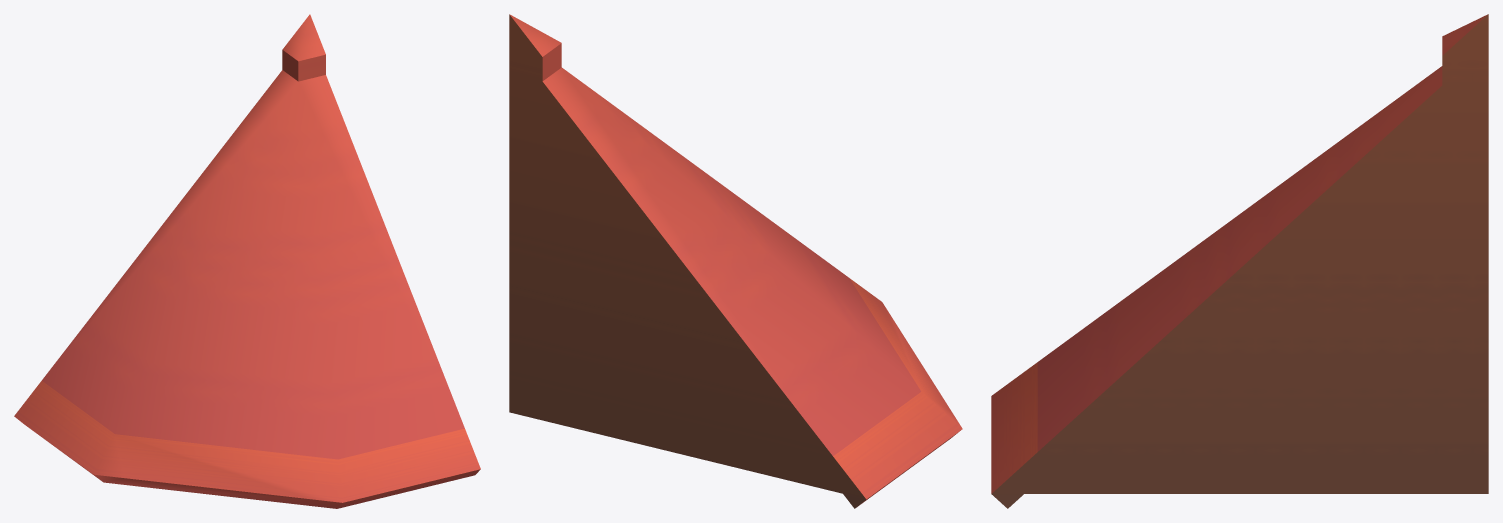
The model's file is roofHighCornerRound.fbx.
3 renders of one model, left to right at view 1: azimuth 30°, elevation 25°; view 2: azimuth 150°, elevation 25°; view 3: azimuth 270°, elevation 25°, orthographic. The views are drawn at different scales.
Visible parts, largest first — view 1: roofHighCornerRound; view 2: roofHighCornerRound; view 3: roofHighCornerRound.
Boxes of the visible parts, x1,y1,x2,y2 form: roofHighCornerRound: (14, 14, 480, 508); roofHighCornerRound: (509, 14, 962, 508); roofHighCornerRound: (991, 14, 1488, 508).
Size of the model in its own units: 1.07 by 1.07 by 1.18.
